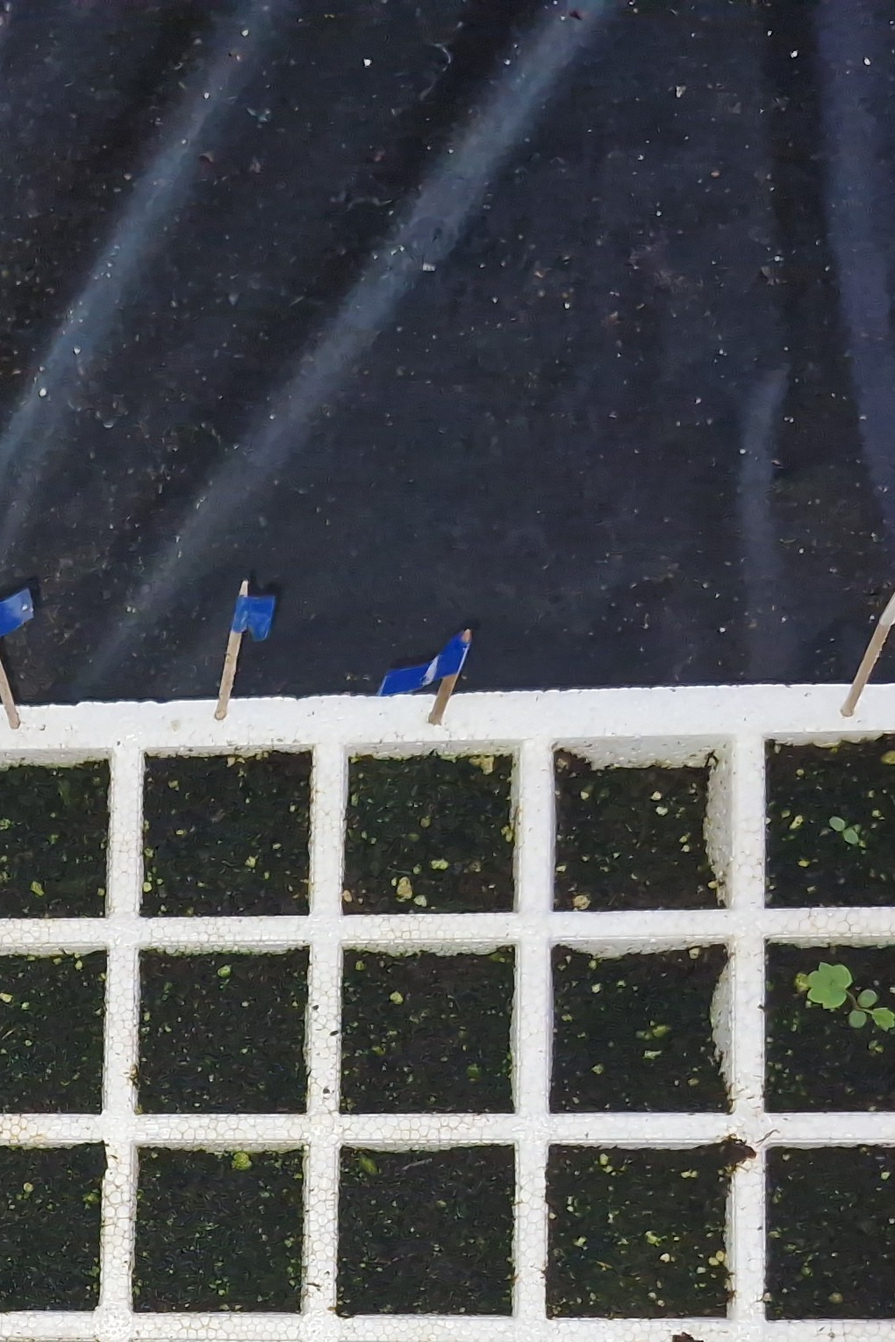Folha: (808, 962, 852, 1009), (872, 1007, 895, 1031), (858, 990, 877, 1007), (849, 1011, 866, 1027), (844, 828, 858, 844), (829, 817, 844, 831)
Germinacao: (807, 962, 895, 1032), (829, 817, 858, 844)
